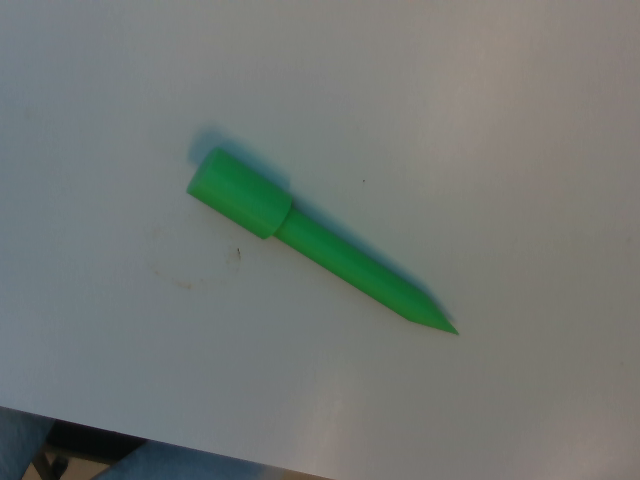Probe: (181, 146, 467, 340)
